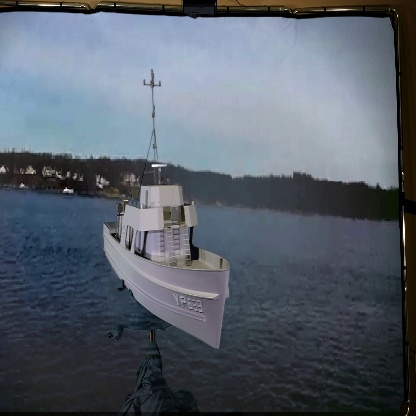YP689: (108, 71, 224, 350)
